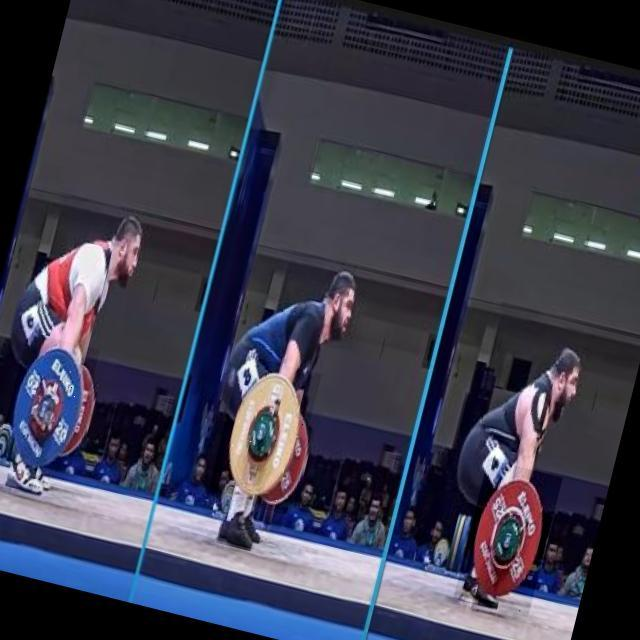barbell: (207, 356, 322, 516), (454, 460, 564, 618), (1, 332, 100, 485)
